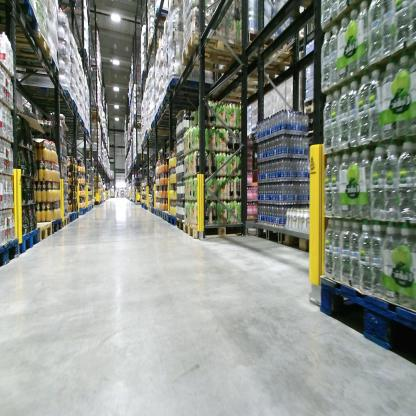pallet: (319, 270, 415, 365), (177, 30, 242, 80), (233, 45, 299, 78), (2, 28, 53, 63), (1, 50, 62, 79), (281, 221, 323, 257), (166, 75, 211, 108), (221, 70, 276, 96), (145, 8, 173, 59), (1, 1, 44, 34), (182, 219, 245, 241), (21, 85, 73, 106), (206, 90, 274, 106), (160, 90, 209, 111), (254, 221, 292, 243), (32, 98, 78, 114), (1, 236, 22, 270), (20, 227, 41, 257), (155, 101, 184, 121), (149, 118, 179, 134), (33, 221, 52, 245), (46, 110, 81, 121), (300, 102, 321, 120), (152, 112, 184, 122), (75, 47, 90, 62), (56, 2, 83, 10), (51, 216, 63, 232), (60, 214, 71, 229), (167, 213, 177, 228), (162, 208, 172, 221), (90, 104, 100, 116), (176, 218, 184, 232), (66, 211, 74, 225), (132, 118, 142, 128), (139, 78, 148, 88), (76, 208, 86, 217), (72, 211, 80, 222), (141, 69, 148, 78), (158, 209, 163, 218), (154, 208, 159, 217), (151, 207, 155, 215), (149, 205, 152, 212)
